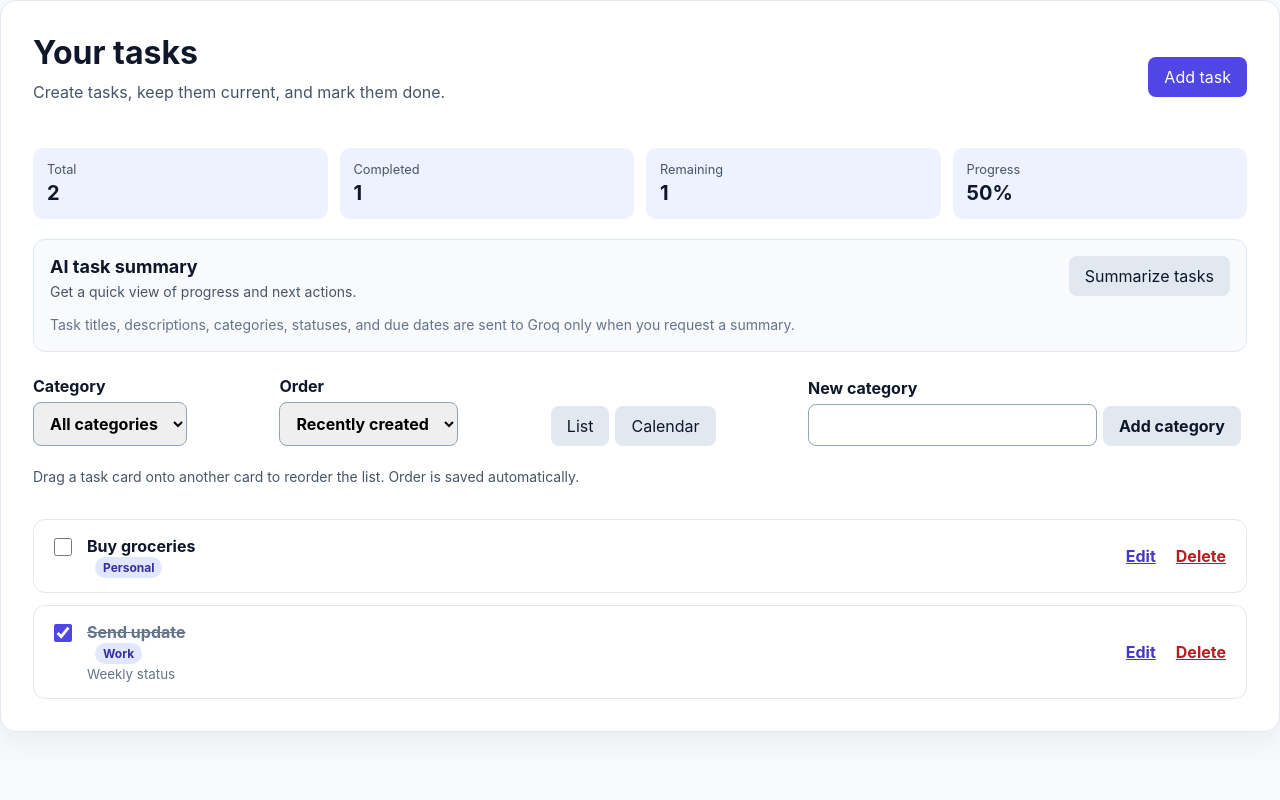
Scenario: shows summary metrics and filters tasks by category
Expected: the text "50%" is shown, [966,181,1013,205]
Expected: the text "Buy groceries" is shown, [87,536,195,556]
Select "Personal" in the dropdown labelled "Category" at (110, 424), box [33,402,187,446]
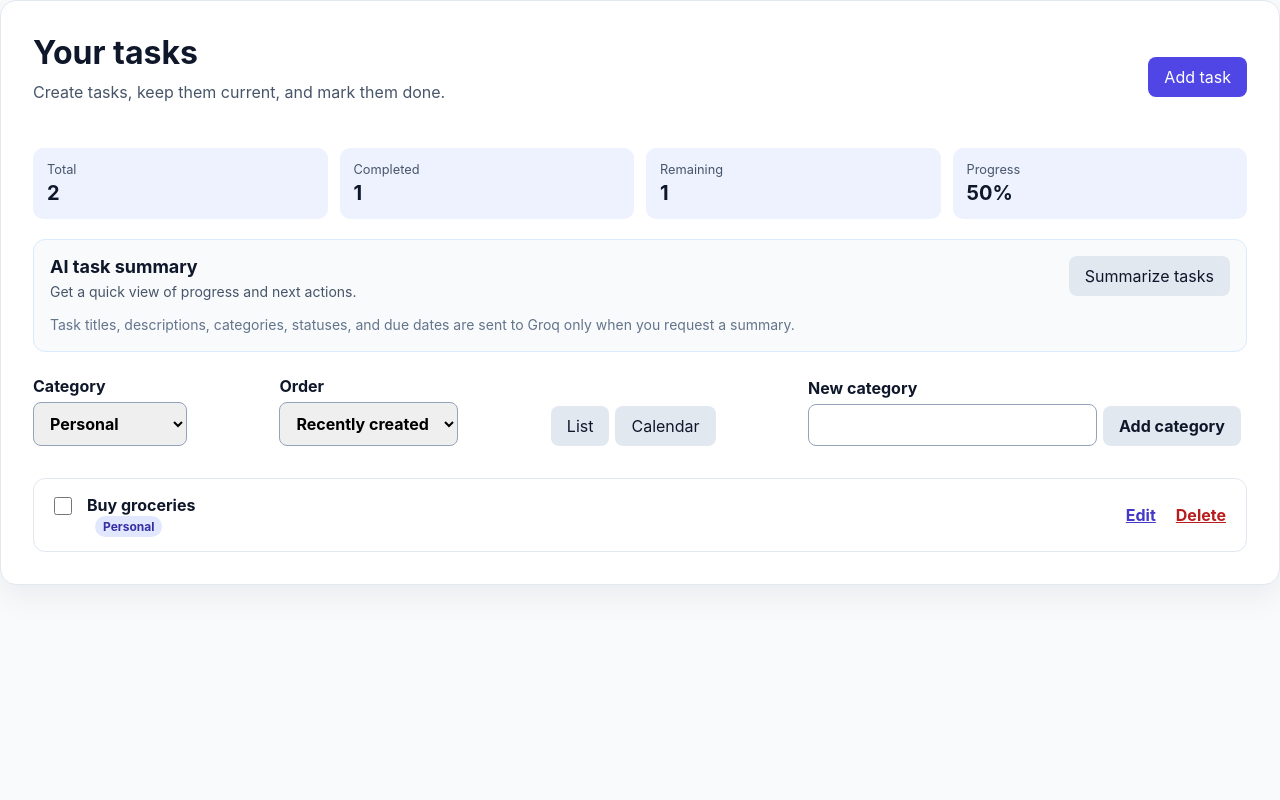
Expected: the text "Buy groceries" is shown, [87,495,195,515]
Now the text "Send update" is gone
